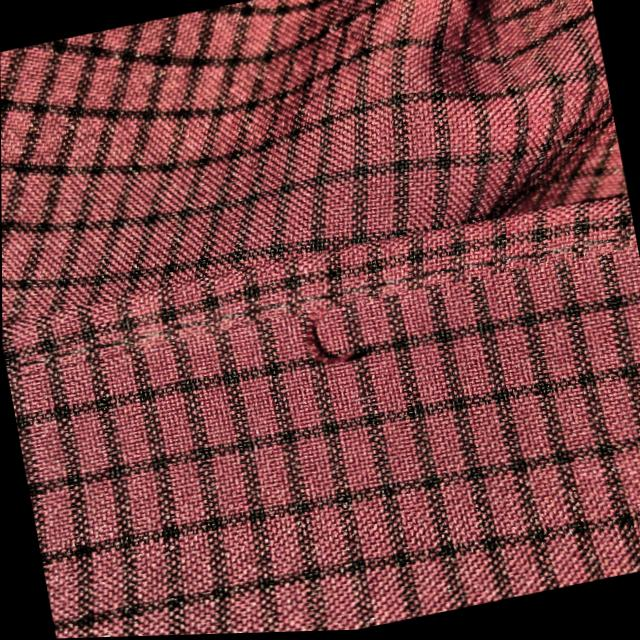Stitch: (247, 257, 397, 434)
